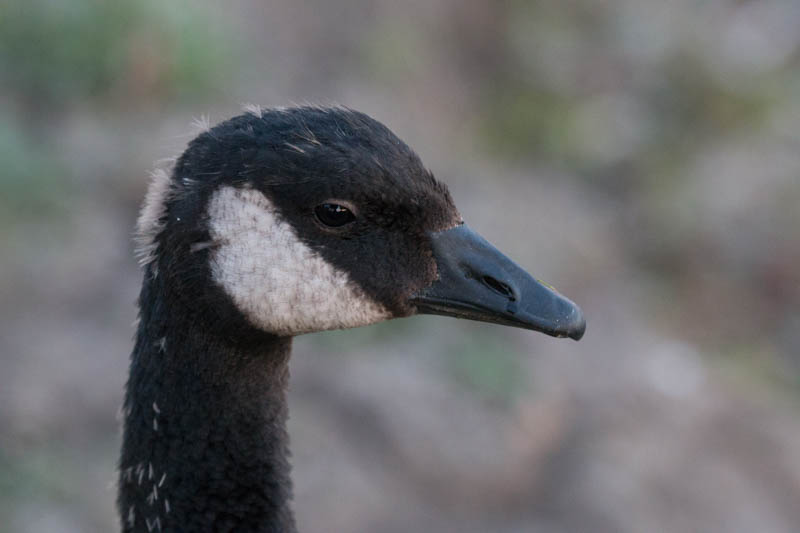goose-head: (141, 101, 584, 341)
